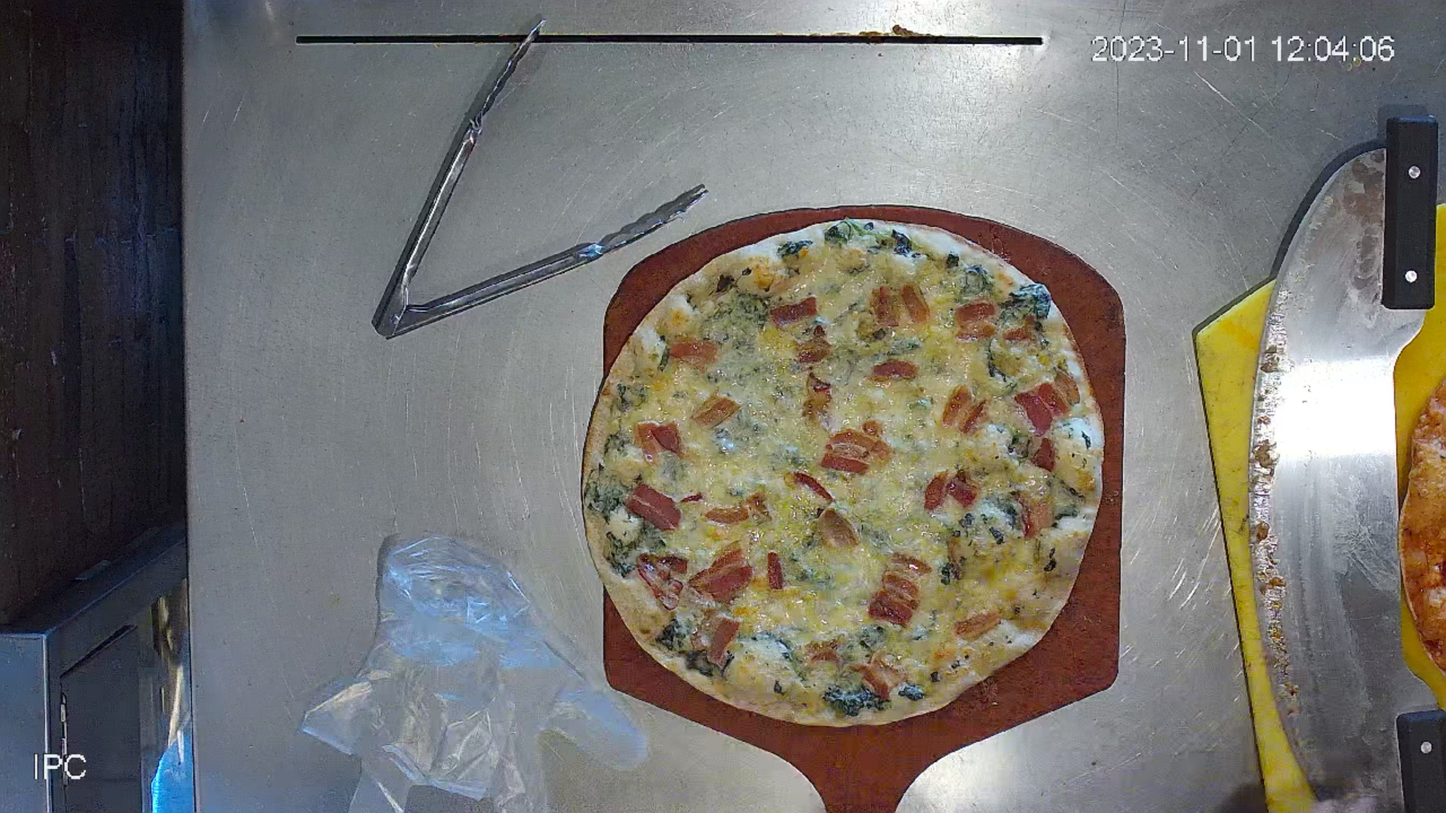pepporoni: (576, 218, 1108, 725)
